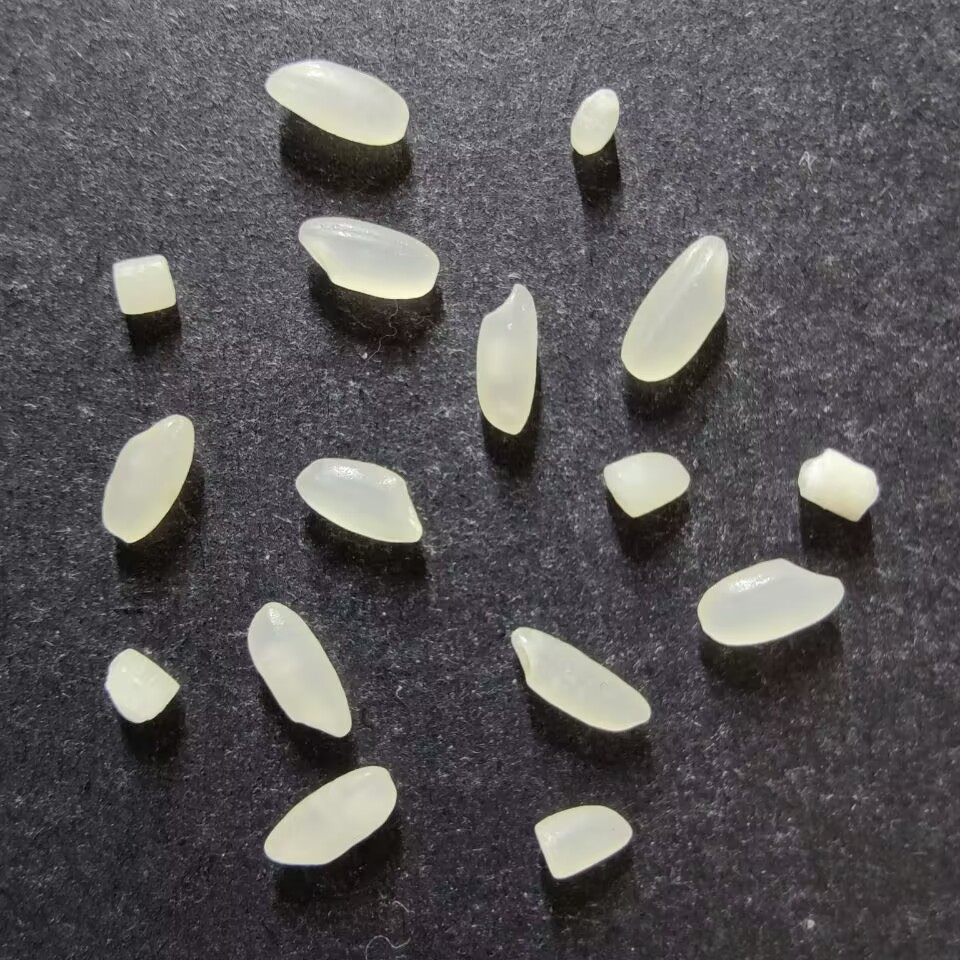broken: (532, 804, 633, 879), (796, 448, 880, 523), (602, 451, 690, 518), (104, 648, 180, 724), (112, 255, 176, 315), (569, 88, 620, 156)
rice: (619, 235, 728, 382), (509, 625, 652, 732), (246, 601, 352, 738), (262, 765, 396, 866), (696, 558, 844, 646), (264, 59, 409, 146), (100, 414, 194, 544), (297, 215, 439, 299), (294, 457, 423, 544), (474, 283, 538, 434)
